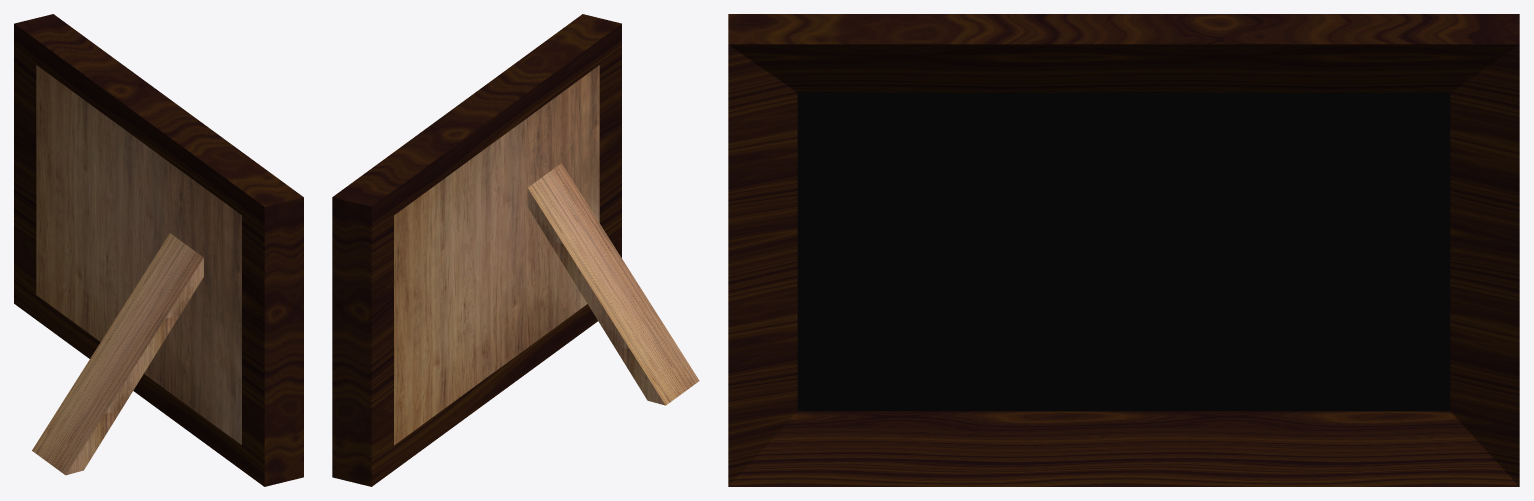
The model's file is PictureFrame.fbx.
The picture shows the model from 3 angles, left to right: view 1: azimuth 30°, elevation 25°; view 2: azimuth 150°, elevation 25°; view 3: azimuth 270°, elevation 25°; orthographic projection. The views are drawn at different scales.
Visible parts, largest first — view 1: pCube1248; view 2: pCube1248; view 3: pCube1248.
Boxes of the visible parts, <box> form: pCube1248: <box>14,14,303,486</box>; pCube1248: <box>332,14,699,486</box>; pCube1248: <box>728,14,1519,486</box>.
Bounding box in the file's own units: 0.7798 × 1.18 × 1.9.
6 materials, 5 textured.
